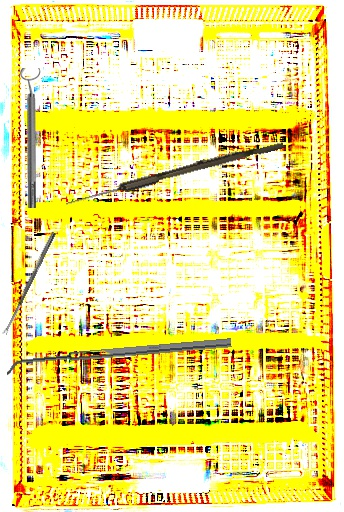Fixation Ring: (20, 68, 42, 208)
Spatula Surgical: (5, 338, 233, 376)
Surgical Spoon: (64, 137, 285, 210), (1, 231, 57, 336)
